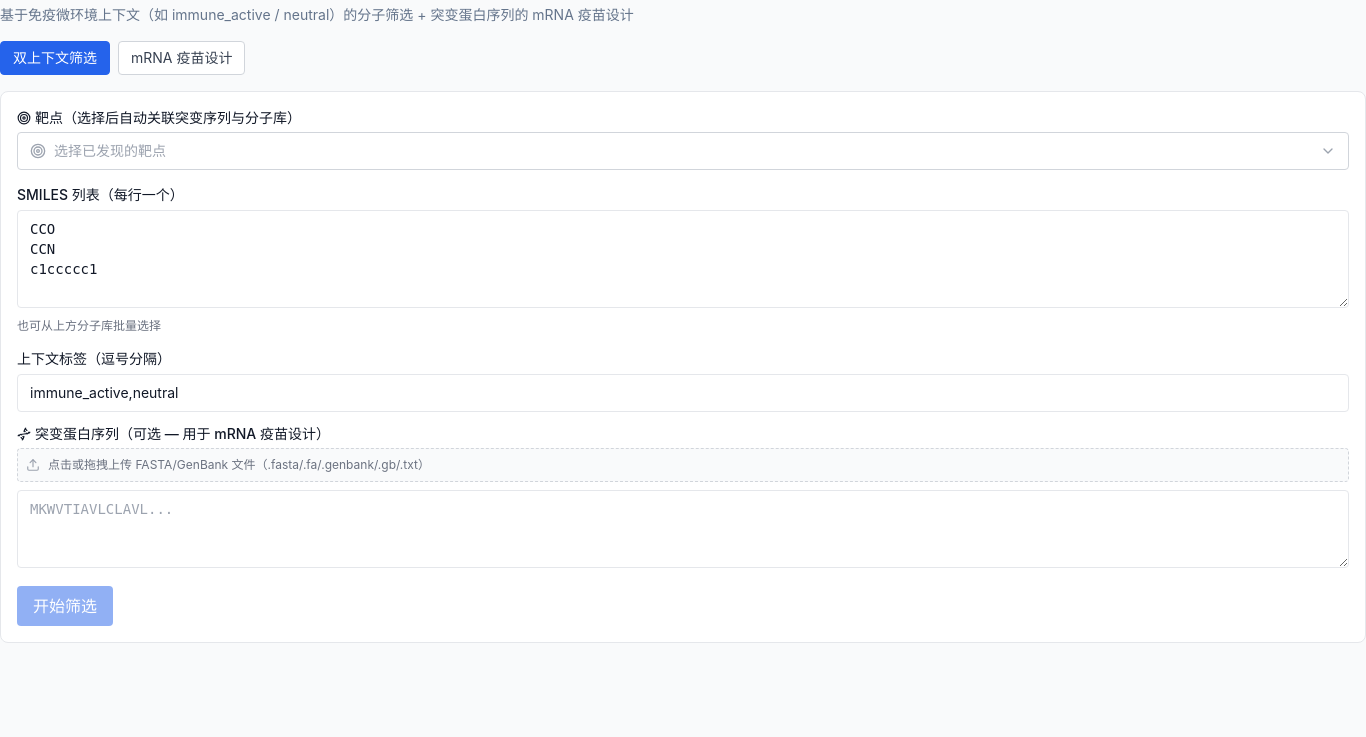
Scenario: ScreeningPage › dualContextScreen 失败时显示错误提示
Click the text "选择已发现的靶点" at coordinates (110, 150), box x1=54 y1=142 x2=166 y2=159
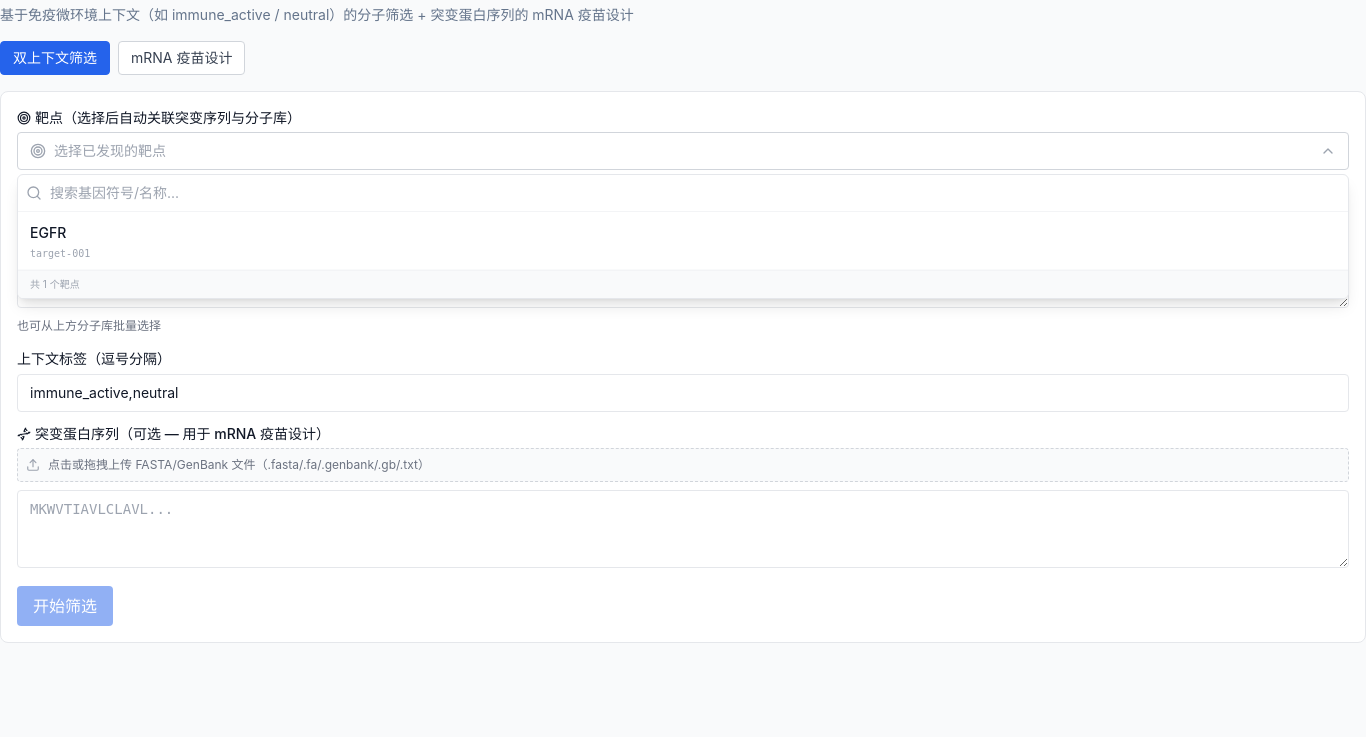
Check: the text "EGFR" is shown
Click the text "EGFR" at coordinates (48, 232), box x1=30 y1=224 x2=66 y2=241
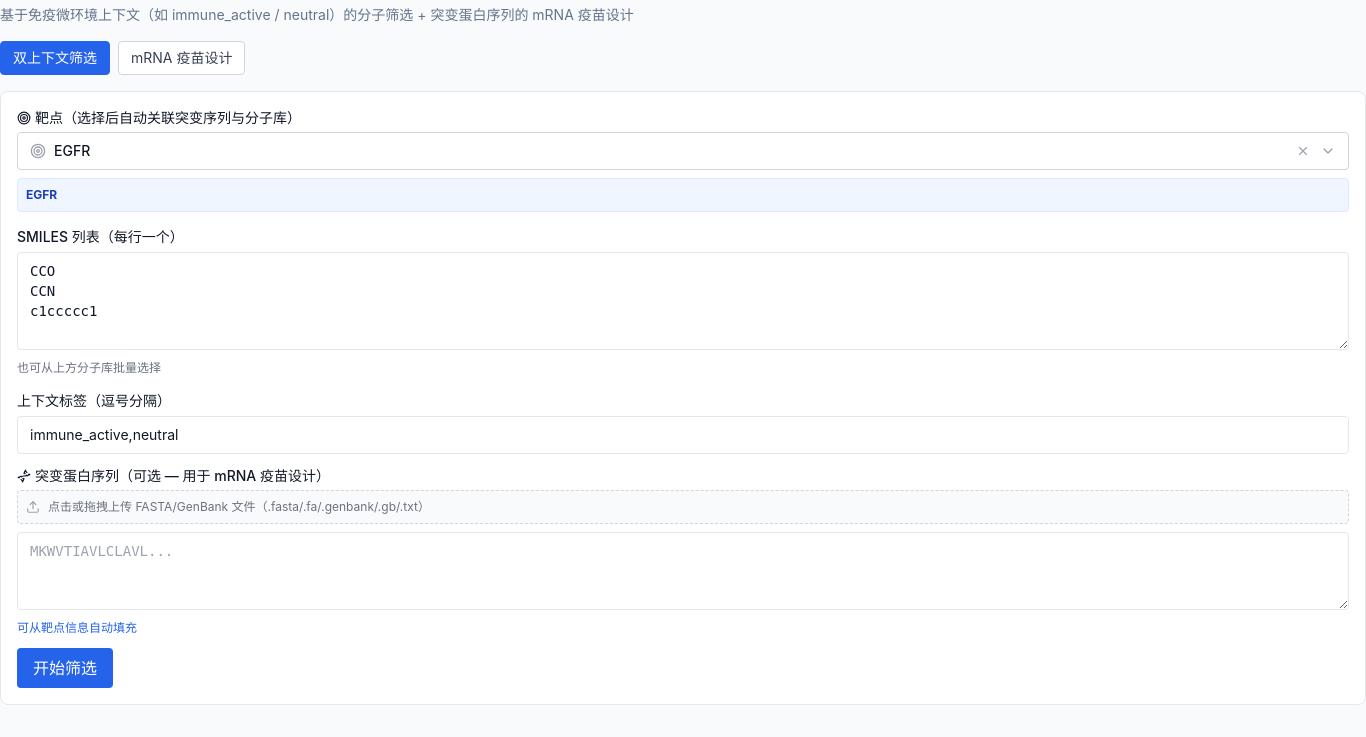
Check: the button "开始筛选" is enabled
Click the button "开始筛选" at coordinates (65, 668), box x1=17 y1=648 x2=113 y2=688
(page scrolled)
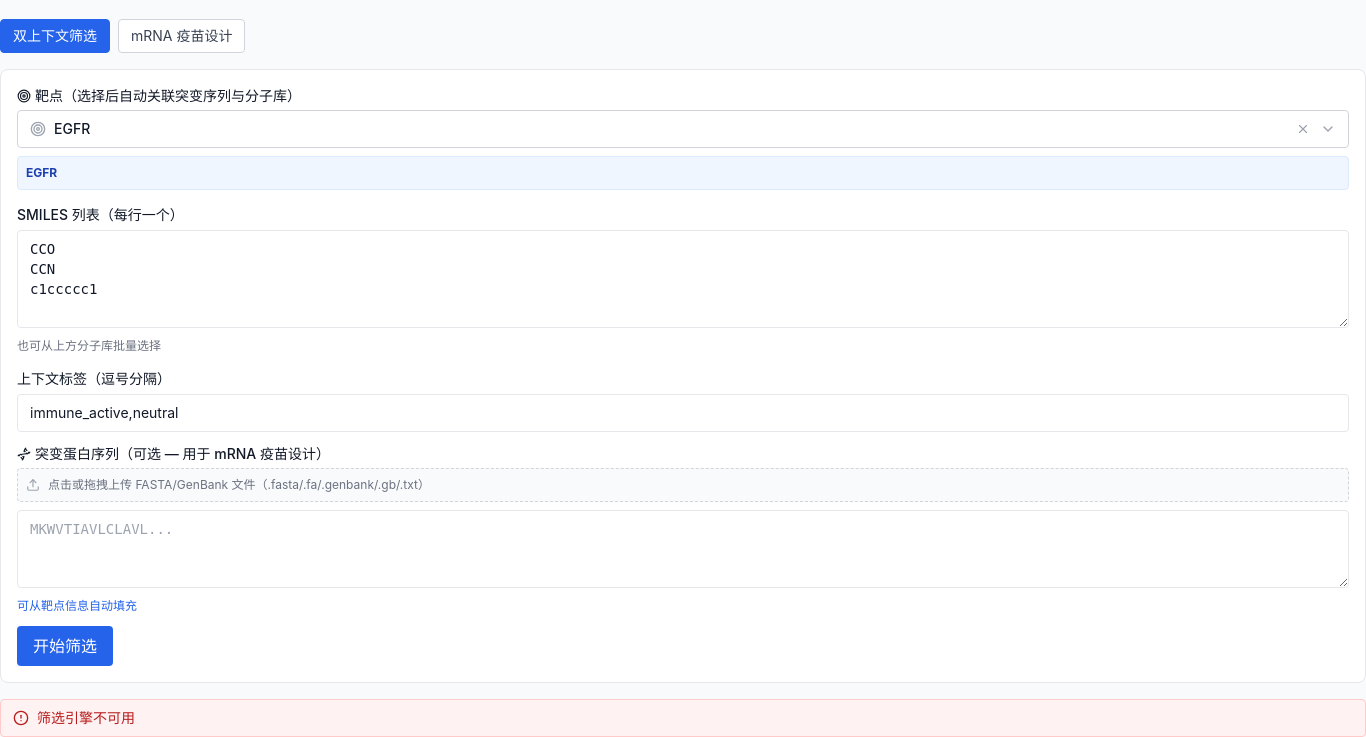
Check: the text "筛选引擎不可用" is shown, box x1=37 y1=708 x2=135 y2=728
